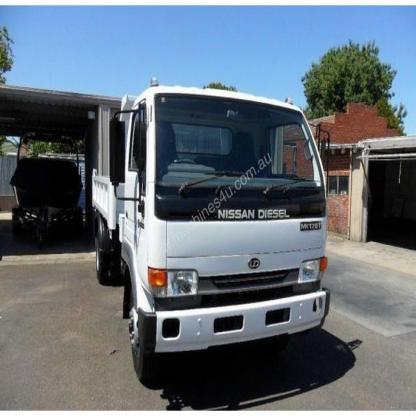dump_truck: (81, 67, 332, 382)
